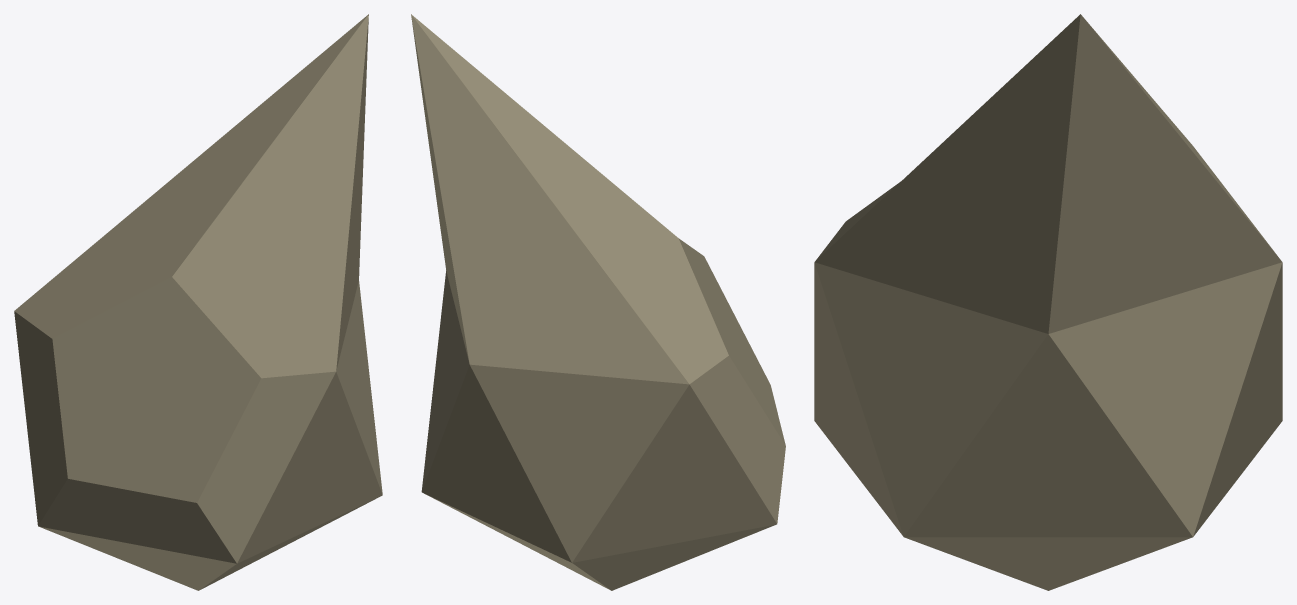
The model's file is Stone1.fbx.
3 views of the same model, side by side, from view 1: azimuth 30°, elevation 25°; view 2: azimuth 150°, elevation 25°; view 3: azimuth 270°, elevation 25° (orthographic). The views are drawn at different scales.
Visible parts, largest first — view 1: Icosphere.001; view 2: Icosphere.001; view 3: Icosphere.001.
Part boxes in pixels (x1,y1,x2,y2): Icosphere.001: (14, 14, 382, 590); Icosphere.001: (411, 14, 785, 590); Icosphere.001: (814, 14, 1282, 590).
Size of the model in its own units: 191 by 279 by 170.
